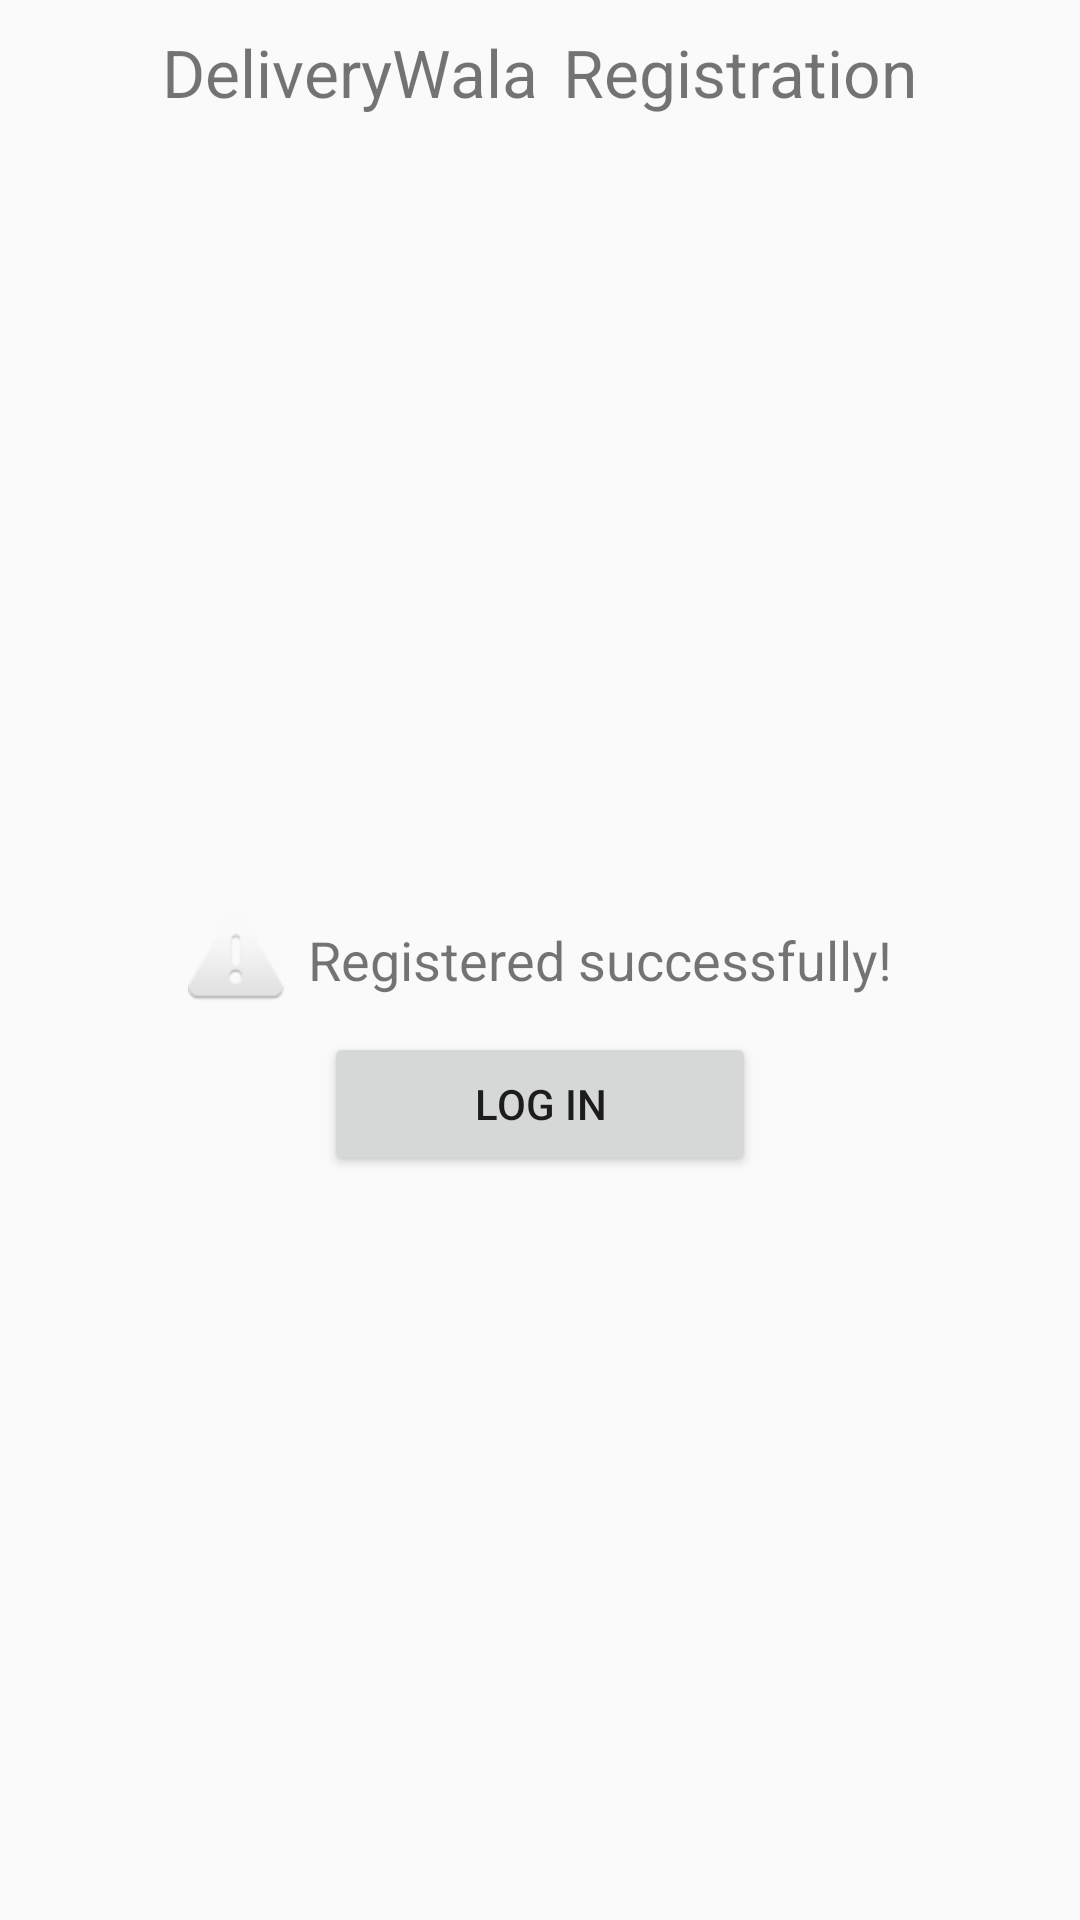

Icons on this 1080w x 1920h Android screen, each with the point to tap as (x=x, y=y):
warning icon: (x=235, y=967)
